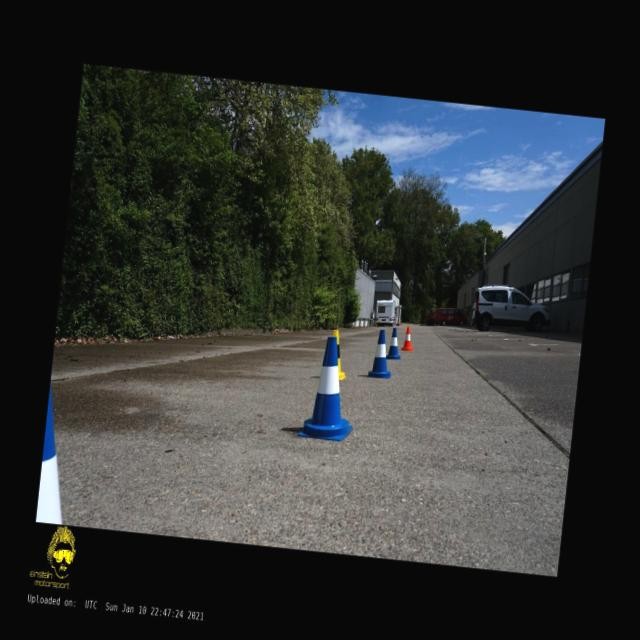blue_cone: (296, 334, 362, 442), (368, 328, 395, 378), (385, 327, 403, 360)
orange_cone: (401, 326, 415, 352)
yellow_cone: (328, 329, 350, 380)
